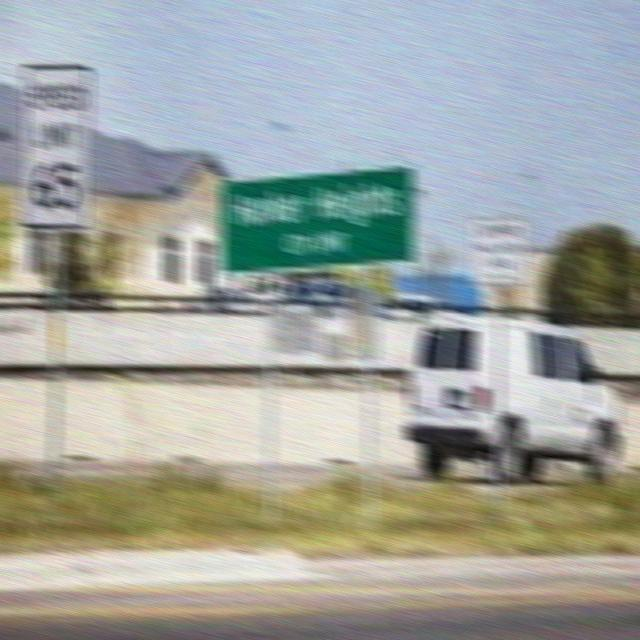speedLimit65: (20, 64, 94, 232)
